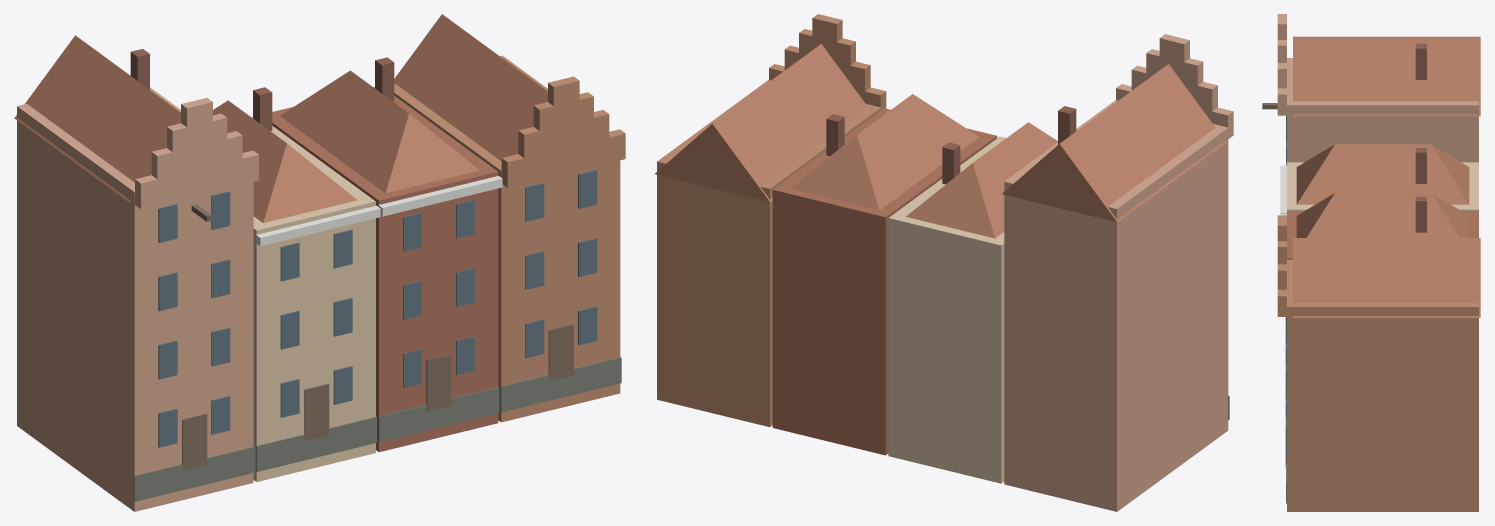
File: CanalRowA.glb
3 renders of one model, left to right at view 1: azimuth 30°, elevation 25°; view 2: azimuth 150°, elevation 25°; view 3: azimuth 270°, elevation 25°, orthographic. The views are drawn at different scales.
Visible parts, largest first — view 1: House, House.002, House.001, House.003, Roof, Hip roof.001, Roof.001, Hip roof, Stepped gable.004, Stepped gable, Water stain.002, Water stain.003 (+37 smaller); view 2: House, House.002, House.001, House.003, Roof, Roof.001, Hip roof.001, Hip roof, Stepped gable.002, Stepped gable.006, Stepped gable.001, Stepped gable.005 (+5 smaller); view 3: House.003, Roof.001, Roof, House, Hip roof, Hip roof.001, House.001, House.002, Chimney, Chimney.002, Chimney.001, Cornice (+5 smaller).
Part boxes in pixels (left/top/right/bottom): House: left=17, top=87, right=253, bottom=511; House.002: left=272, top=87, right=498, bottom=452; House.001: left=251, top=116, right=375, bottom=481; House.003: left=394, top=55, right=620, bottom=422; Roof: left=14, top=35, right=180, bottom=202; Hip roof.001: left=280, top=70, right=479, bottom=193; Roof.001: left=394, top=14, right=547, bottom=161; Hip roof: left=213, top=100, right=357, bottom=223; Stepped gable.004: left=501, top=129, right=625, bottom=187; Stepped gable: left=135, top=150, right=258, bottom=208; Water stain.002: left=378, top=387, right=499, bottom=442; Water stain.003: left=500, top=357, right=621, bottom=412; House: left=1004, top=100, right=1228, bottom=511; House.002: left=772, top=108, right=996, bottom=455; House.001: left=888, top=136, right=1006, bottom=483; House.003: left=657, top=80, right=881, bottom=427; Roof: left=1002, top=64, right=1226, bottom=222; Roof.001: left=655, top=44, right=868, bottom=201; Hip roof.001: left=790, top=94, right=979, bottom=210; Hip roof: left=906, top=122, right=1057, bottom=238; Stepped gable.002: left=1146, top=49, right=1203, bottom=85; Stepped gable.006: left=799, top=29, right=855, bottom=65; Stepped gable.001: left=1131, top=65, right=1217, bottom=111; Stepped gable.005: left=784, top=45, right=870, bottom=91; House.003: left=1287, top=259, right=1478, bottom=511; Roof.001: left=1293, top=238, right=1480, bottom=317; Roof: left=1293, top=36, right=1480, bottom=116; House: left=1287, top=58, right=1478, bottom=162; Hip roof: left=1296, top=144, right=1469, bottom=204; Hip roof.001: left=1296, top=193, right=1469, bottom=237; House.001: left=1287, top=162, right=1478, bottom=210; House.002: left=1287, top=211, right=1478, bottom=259; Chimney: left=1415, top=43, right=1426, bottom=79; Chimney.002: left=1415, top=196, right=1426, bottom=232; Chimney.001: left=1415, top=148, right=1426, bottom=183; Cornice: left=1280, top=165, right=1286, bottom=213.
Bounding box in the file's own units: 24 × 18.6 × 11.4.
